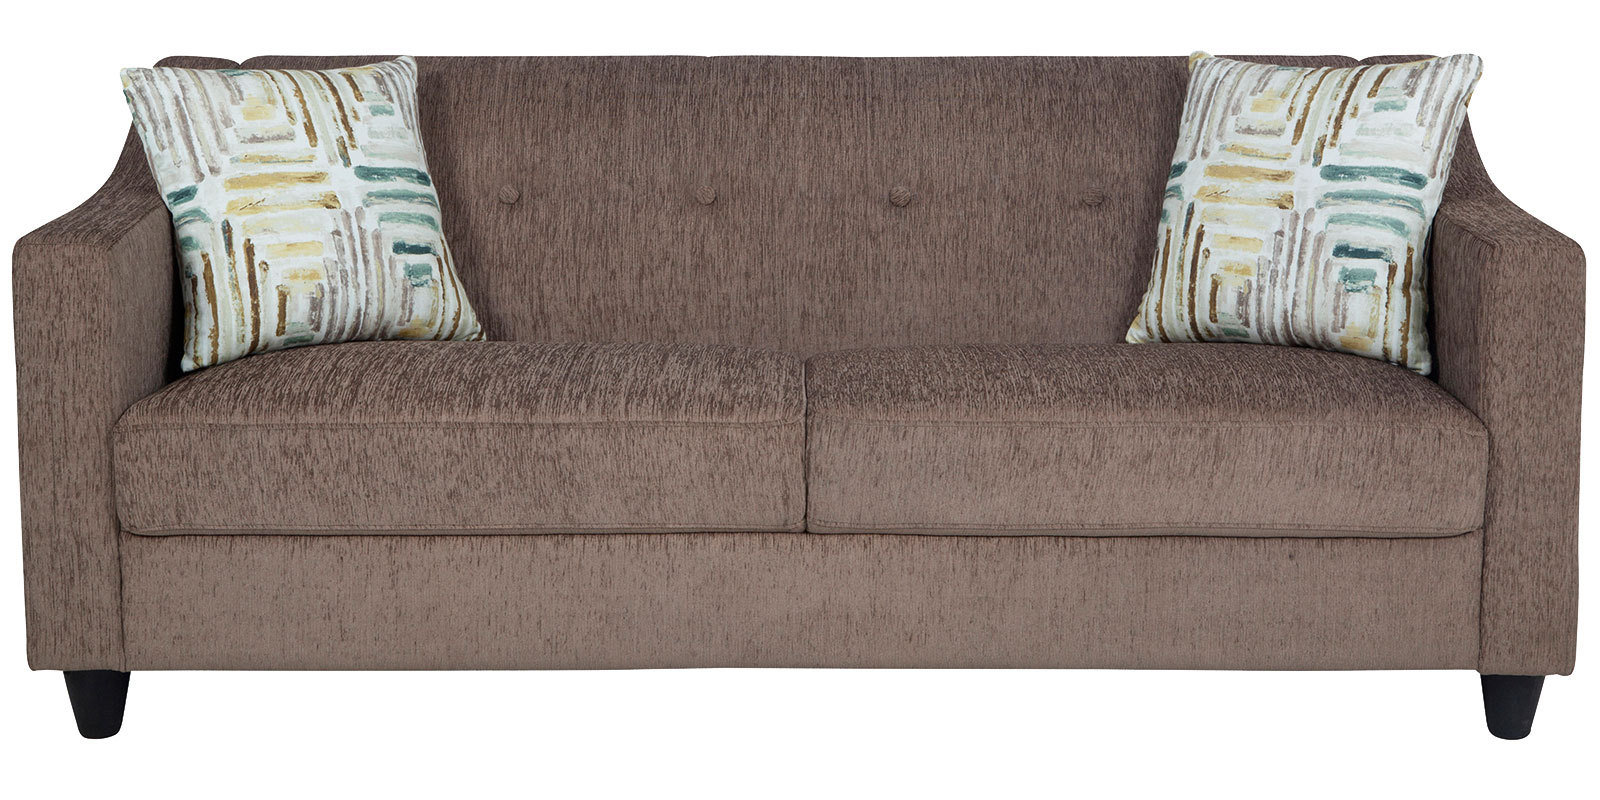Derby Three Seater Sofa in Grey Colour by Urban Living: (11, 26, 1600, 778)
